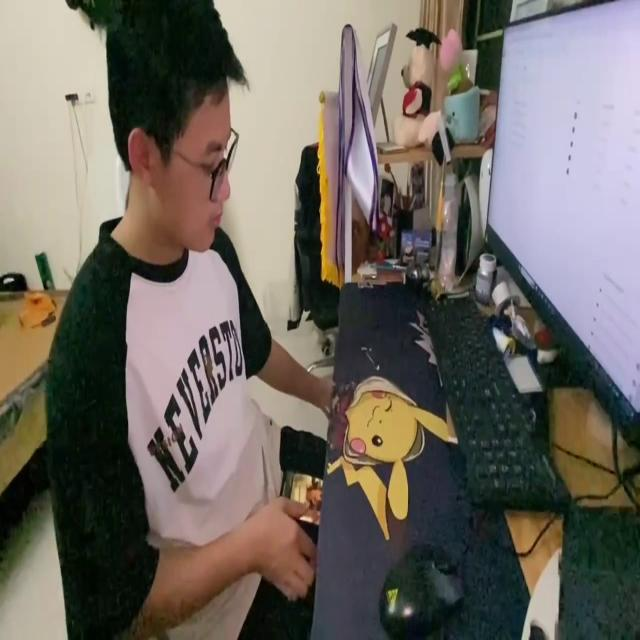laptop: (483, 0, 640, 452)
phone: (276, 469, 324, 529)
student: (42, 0, 328, 639)
